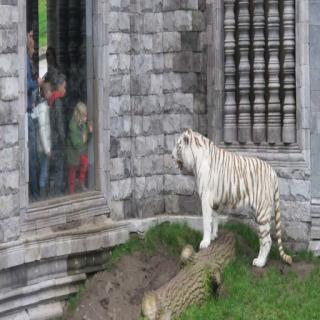Tiger: (170, 123, 296, 269)
